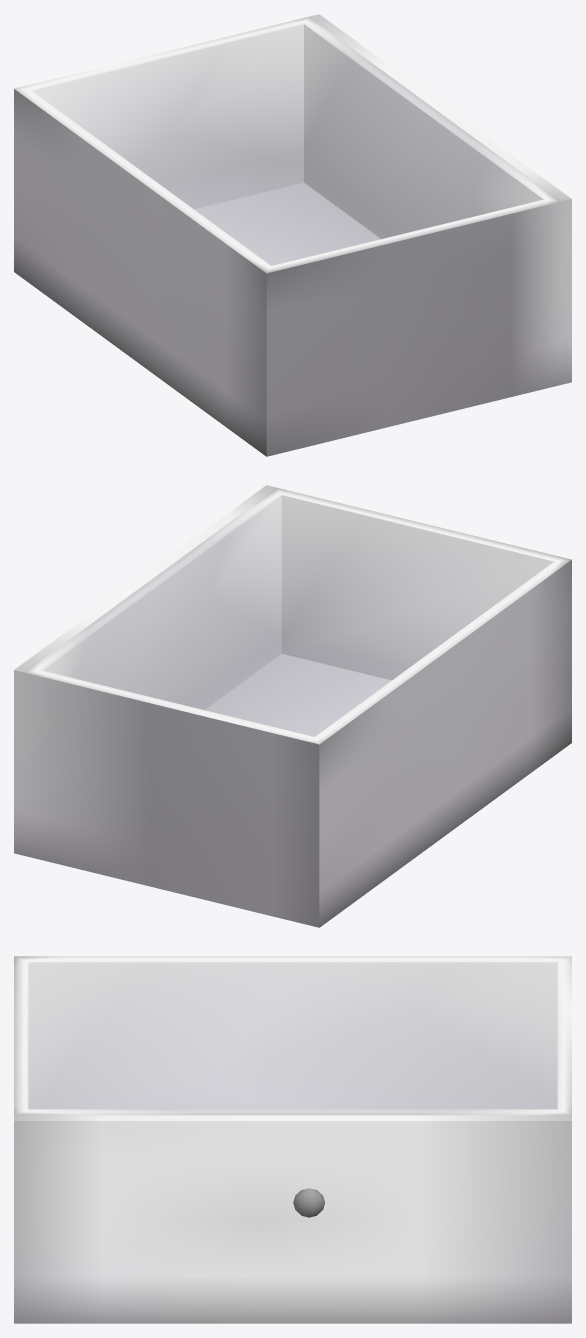
Rendered from chestOfDrawers_DrawerTop.glb.
The picture shows the model from 3 angles, top to bottom: view 1: azimuth 30°, elevation 25°; view 2: azimuth 150°, elevation 25°; view 3: azimuth 270°, elevation 25°; orthographic projection. The views are drawn at different scales.
Visible parts, largest first — view 1: RC_Furn_Dresser_Drawer1.001; view 2: RC_Furn_Dresser_Drawer1.001; view 3: RC_Furn_Dresser_Drawer1.001.
Boxes of the visible parts, x1,y1,x2,y2 form: RC_Furn_Dresser_Drawer1.001: (14, 14, 571, 456); RC_Furn_Dresser_Drawer1.001: (14, 485, 571, 927); RC_Furn_Dresser_Drawer1.001: (14, 956, 571, 1323).
Size of the model in its own units: 0.7216 by 0.3986 by 0.9953.
1 material, 1 textured.
